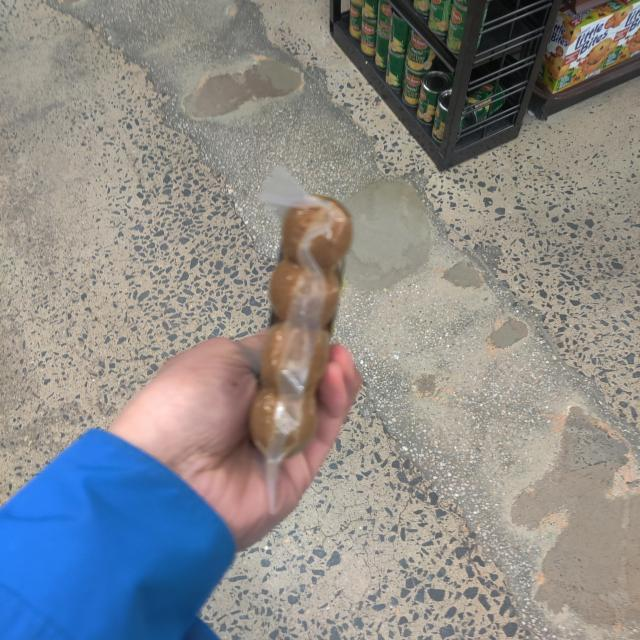Meat: (259, 164, 349, 468)
